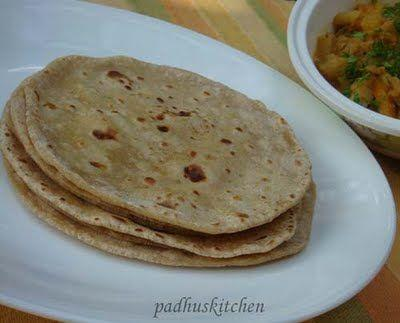roti phulka: (1, 55, 317, 268)
